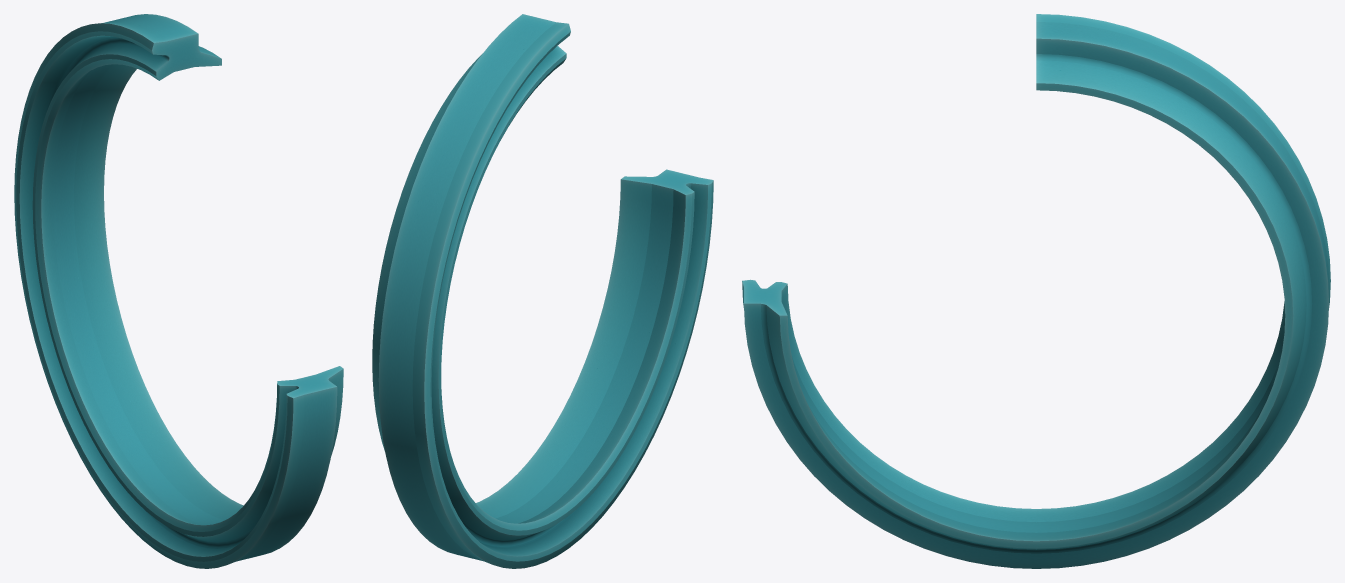
3 renders of one model, left to right at view 1: azimuth 30°, elevation 25°; view 2: azimuth 150°, elevation 25°; view 3: azimuth 270°, elevation 25°, orthographic. The views are drawn at different scales.
Visible parts, largest first — view 1: PR00078_zurcon_scraper_da27; view 2: PR00078_zurcon_scraper_da27; view 3: PR00078_zurcon_scraper_da27.
Part boxes in pixels (x1,y1,x2,y2): PR00078_zurcon_scraper_da27: [14, 14, 343, 568]; PR00078_zurcon_scraper_da27: [372, 14, 713, 568]; PR00078_zurcon_scraper_da27: [742, 14, 1330, 568].
Bounding box in the file's own units: 0.0288 × 0.199 × 0.199.
Materials: 1 (1 with a texture image).
